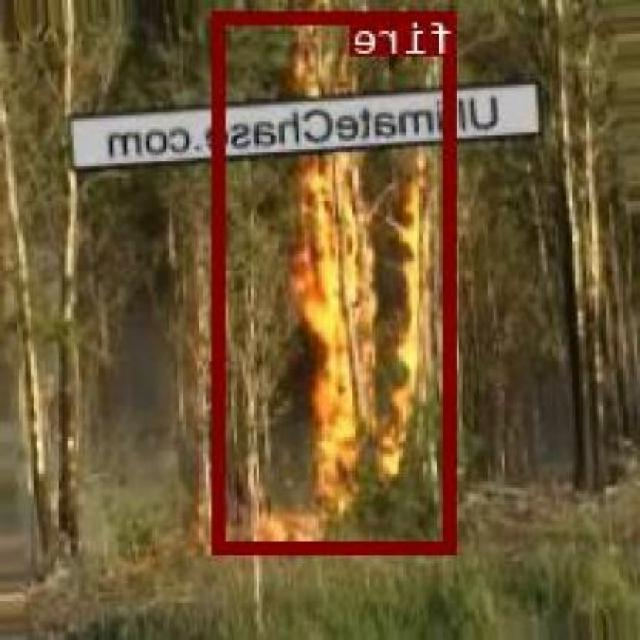Fire: (272, 1, 425, 534)
Smoke: (44, 34, 196, 572)
